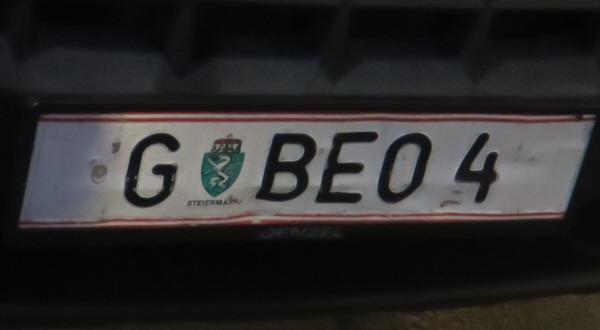license_plate: (18, 112, 598, 231)
